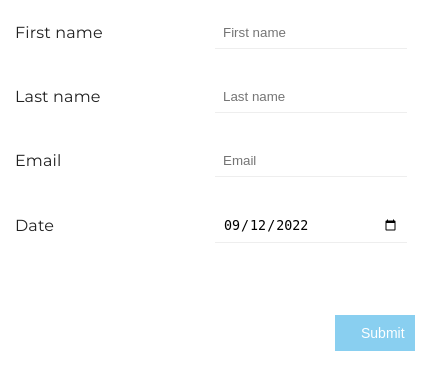
Test case: User › it should validate email field
Type "John" into the field labelled "First name" at (311, 33), box [215,17,407,49]
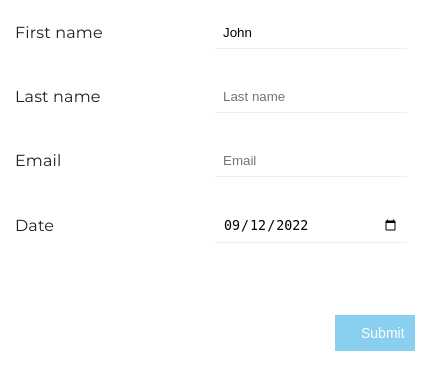
Type "Doe" into the field labelled "Last name" at (311, 97), box [215,81,407,113]
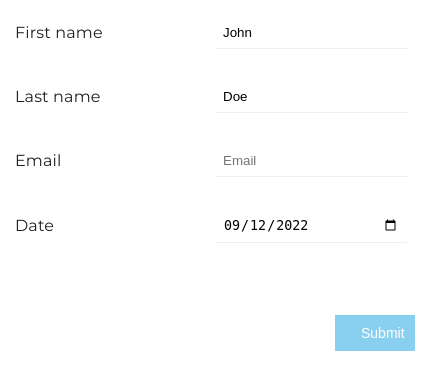
Type "2022-10-09" into the date field labelled "Date" at (311, 226), box [215,209,407,243]
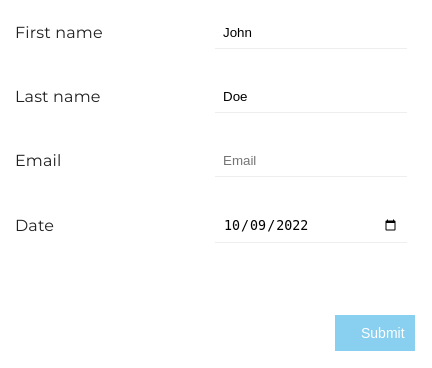
Click the button "Submit" at (375, 333), box [335,315,415,351]
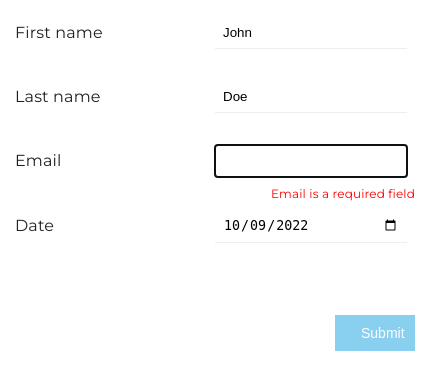
Now the text "Email is a required field" is shown, box [271,186,415,201]
